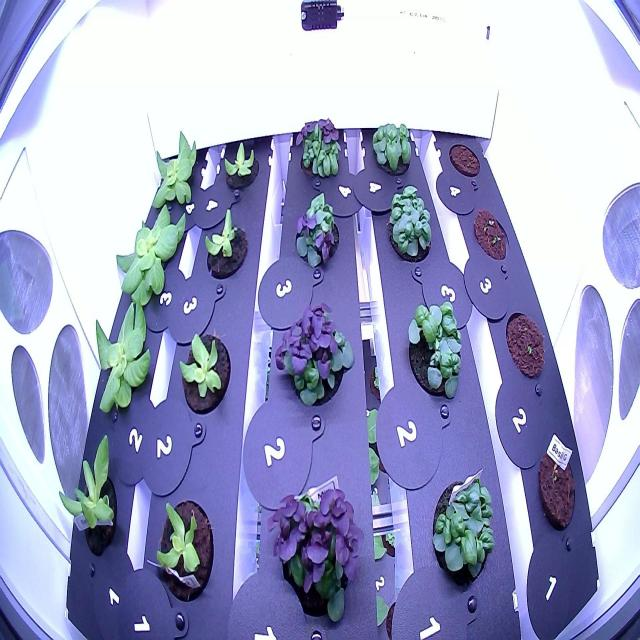germination: (468, 202, 513, 270)
pod: (530, 438, 583, 538), (499, 304, 551, 391), (445, 130, 485, 192)
young: (82, 290, 166, 428), (55, 427, 136, 565), (110, 194, 196, 310), (146, 491, 218, 614), (171, 320, 238, 424), (145, 124, 204, 219), (195, 200, 253, 291), (215, 130, 269, 202)
